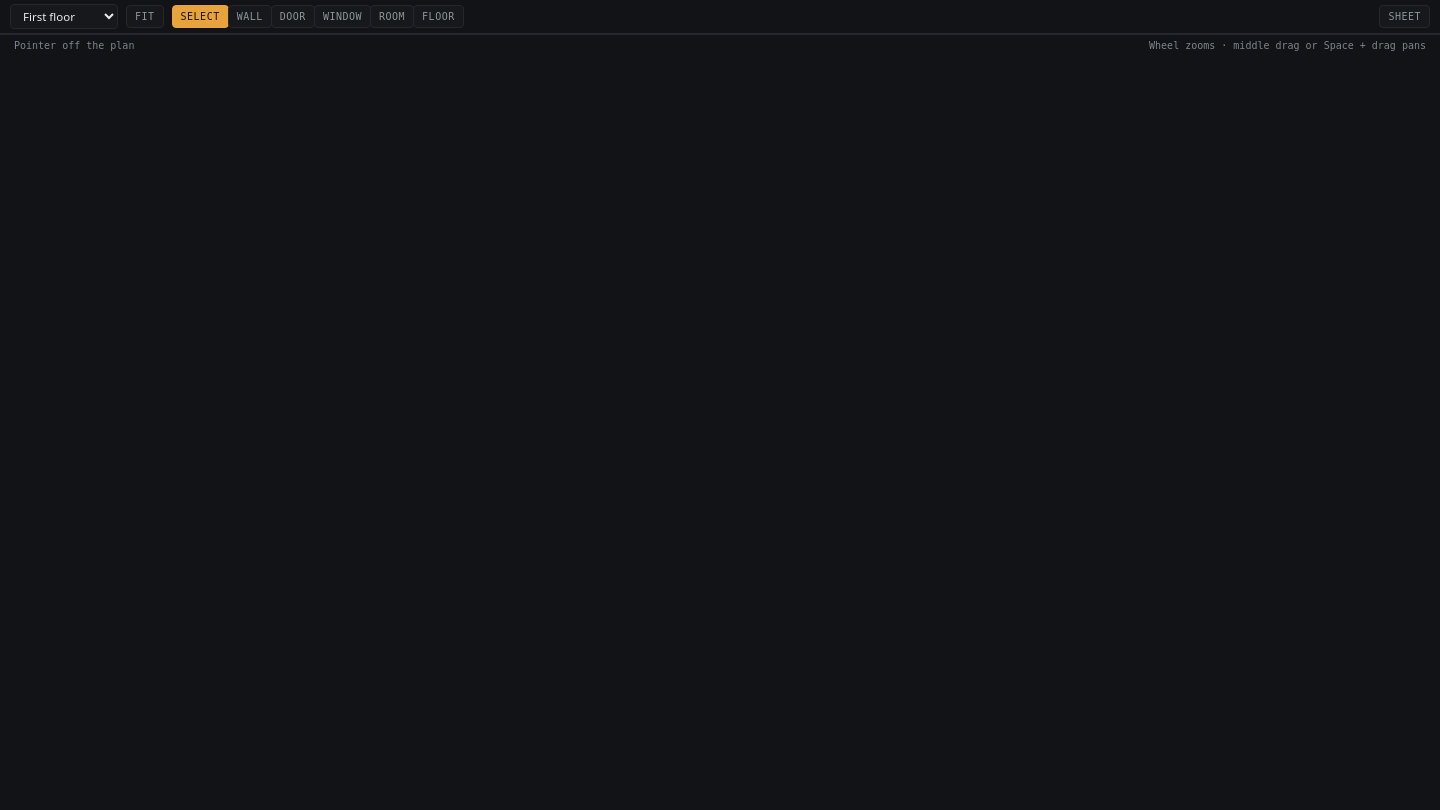
the sheet › draws the level the plan view is on
The width and height of the screenshot is (1440, 810).
Click the button "Sheet" at (1405, 16), box [1379, 5, 1430, 28]
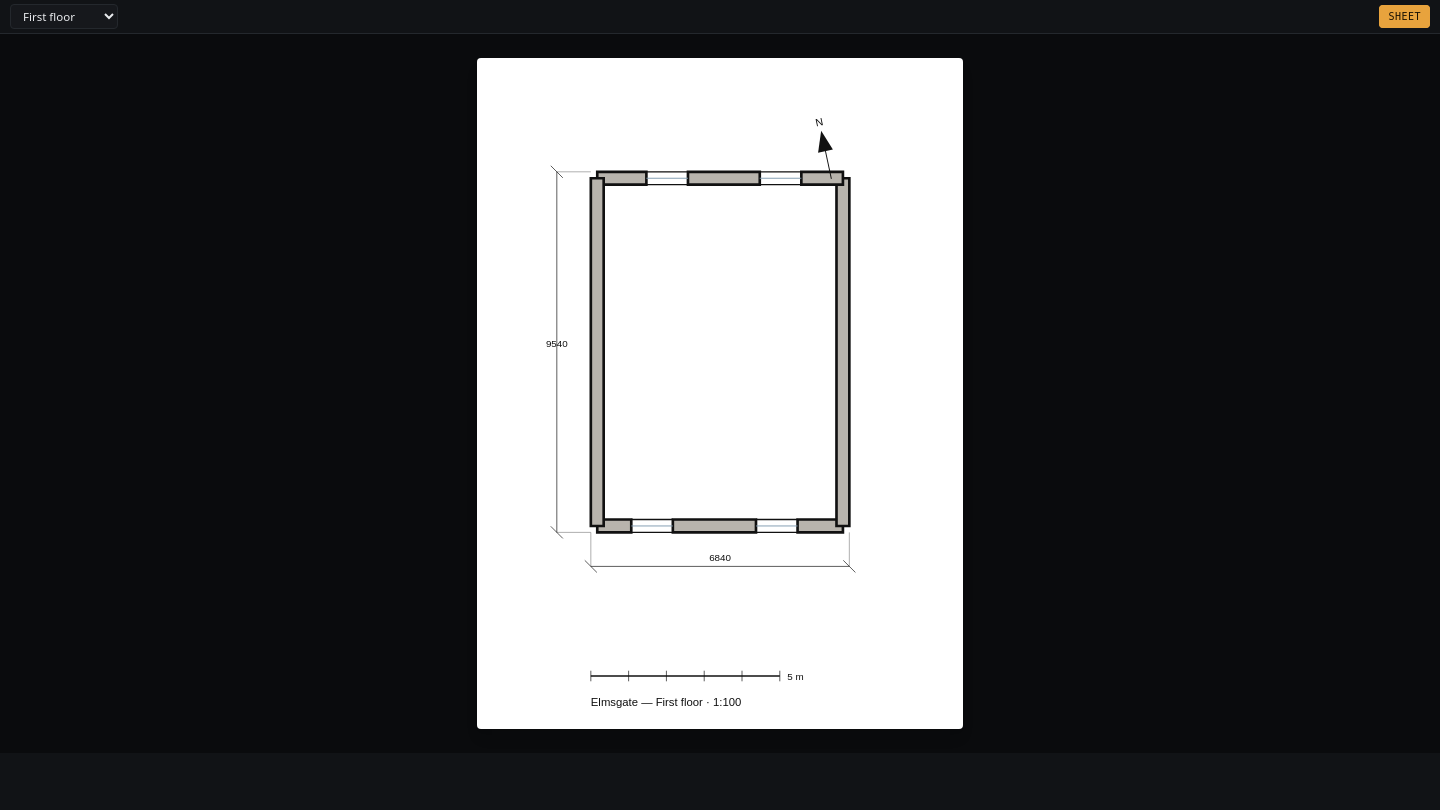
expect the element with test id "plan-sheet" shows "First floor": met, box [591, 696, 741, 708]
